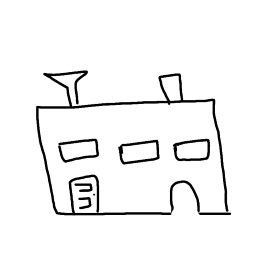chimney: (33, 66, 114, 111), (147, 67, 199, 103)
door: (59, 171, 114, 221), (155, 177, 205, 220)
open_window: (50, 138, 109, 162), (172, 135, 212, 165), (119, 139, 160, 166)
single_line_roof: (22, 97, 223, 116)
wall: (29, 112, 246, 222)
